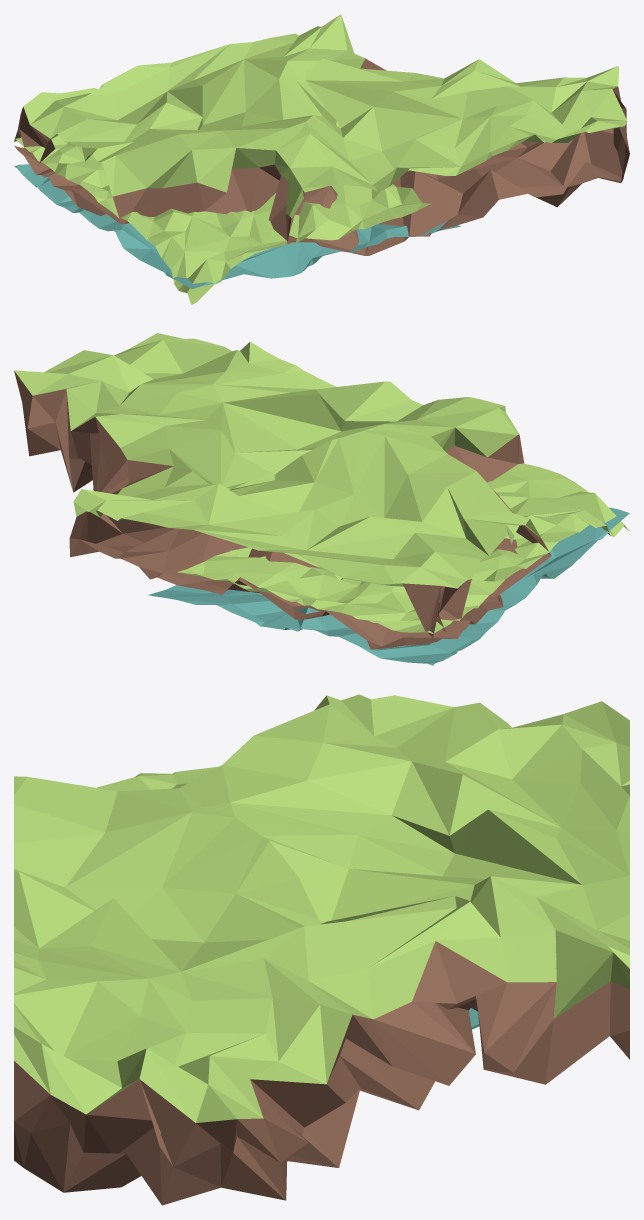
The model's file is RG_Terrain-Mesh-06.fbx.
3 renders of one model, top to bottom at view 1: azimuth 30°, elevation 25°; view 2: azimuth 150°, elevation 25°; view 3: azimuth 270°, elevation 25°, orthographic. The views are drawn at different scales.
Parts seen in each view (by area): view 1: RG_Terrain-Mesh-06; view 2: RG_Terrain-Mesh-06; view 3: RG_Terrain-Mesh-06.
Part boxes in pixels (x1,y1,x2,y2): RG_Terrain-Mesh-06: (14,14,629,304); RG_Terrain-Mesh-06: (14,333,629,665); RG_Terrain-Mesh-06: (14,694,629,1205).
Bounding box in the file's own units: 167 × 31.53 × 104.
